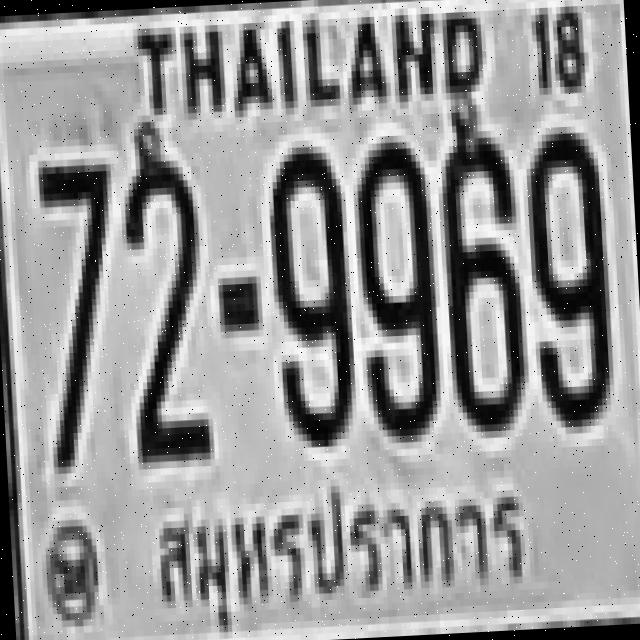2: (120, 146, 208, 456)
6: (435, 124, 523, 426)
7: (34, 158, 122, 468), (34, 158, 116, 368)
9: (262, 138, 354, 442), (522, 125, 614, 422), (351, 134, 439, 438)
SamutPrakan: (134, 470, 542, 628)
